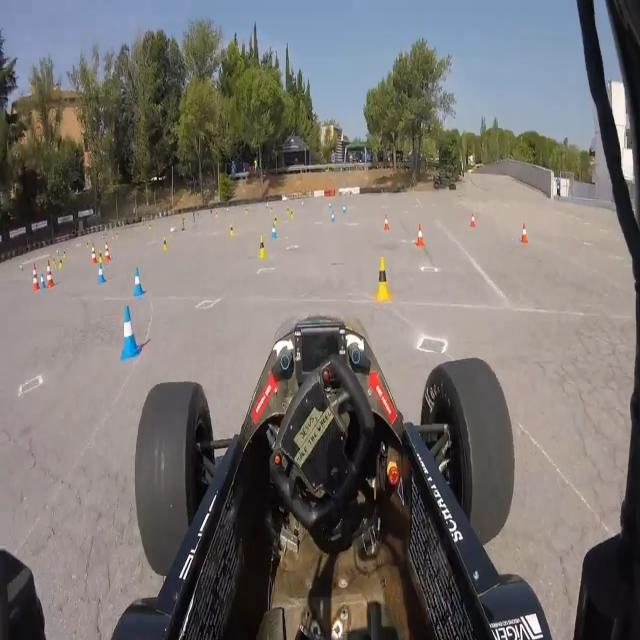blue_cone: (120, 306, 140, 365), (133, 266, 145, 298), (98, 262, 106, 286), (271, 222, 278, 240), (40, 273, 45, 290), (330, 209, 335, 224), (342, 203, 346, 216)
large_orange_cone: (30, 263, 40, 293), (46, 259, 54, 290), (104, 242, 112, 264), (90, 243, 96, 264)
orange_cone: (415, 224, 425, 249), (520, 224, 529, 243), (382, 214, 390, 232), (470, 210, 476, 230)
yellow_cone: (374, 257, 392, 303), (258, 235, 267, 260), (230, 222, 236, 237), (162, 238, 168, 252), (98, 249, 103, 263), (58, 259, 63, 270), (274, 214, 278, 227), (290, 208, 294, 220), (286, 205, 290, 217), (52, 256, 56, 268), (63, 249, 67, 261)
